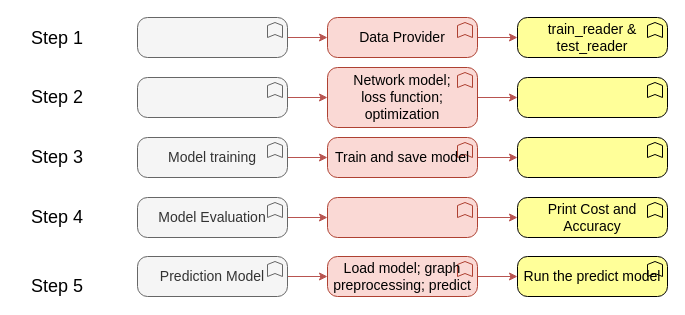
Image size: 685x315. Some labels were removed from this diagram. Each missing label, with the box of its shape:
Data Preperation: (136, 16, 288, 58)
Define Program: (516, 76, 668, 118)
Network config: (136, 76, 288, 118)
Observe the results in the training process: (326, 196, 478, 238)
run the program; feed data; save model: (516, 136, 668, 178)
